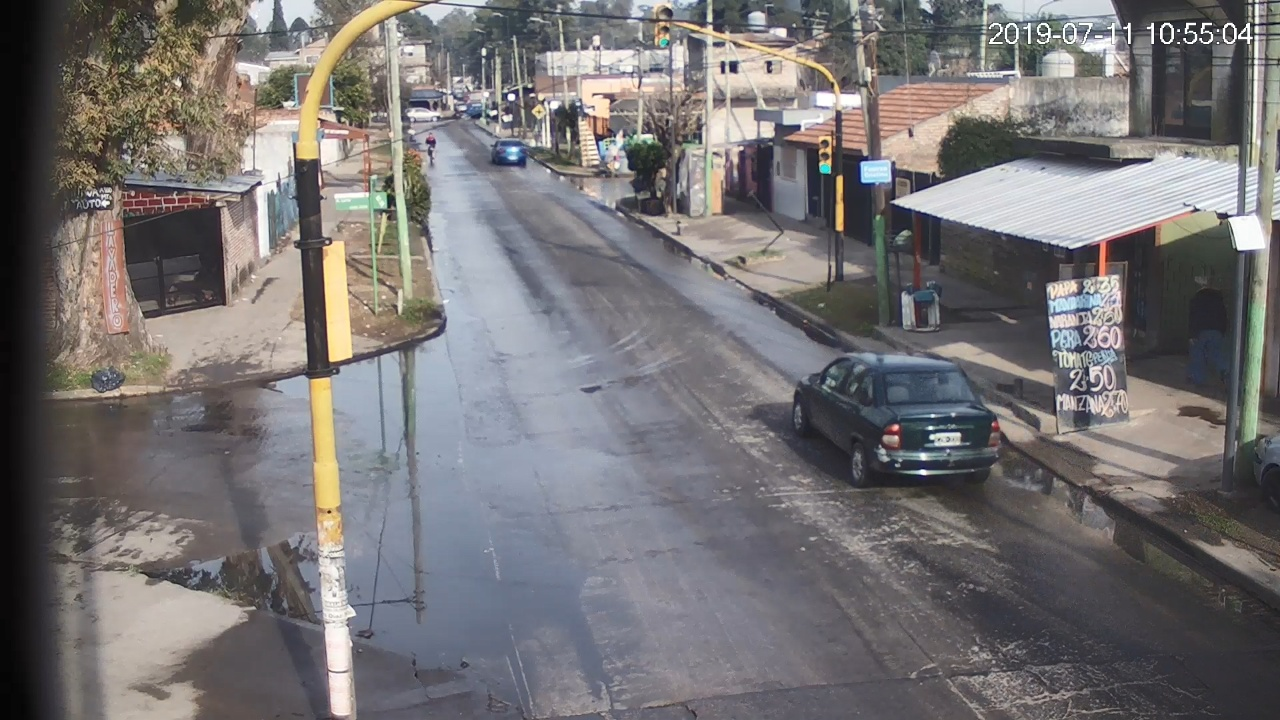car: (792, 351, 999, 486)
traffic light: (657, 6, 671, 48), (819, 135, 831, 174)
